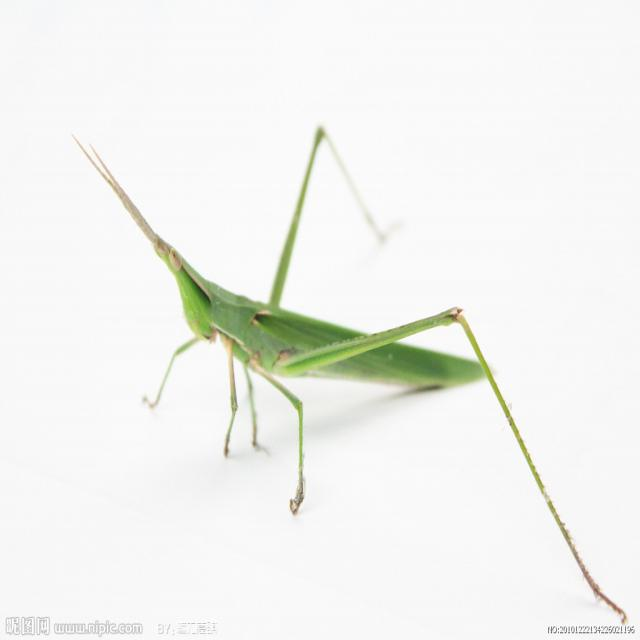ZhaMeng: (66, 107, 622, 558)
